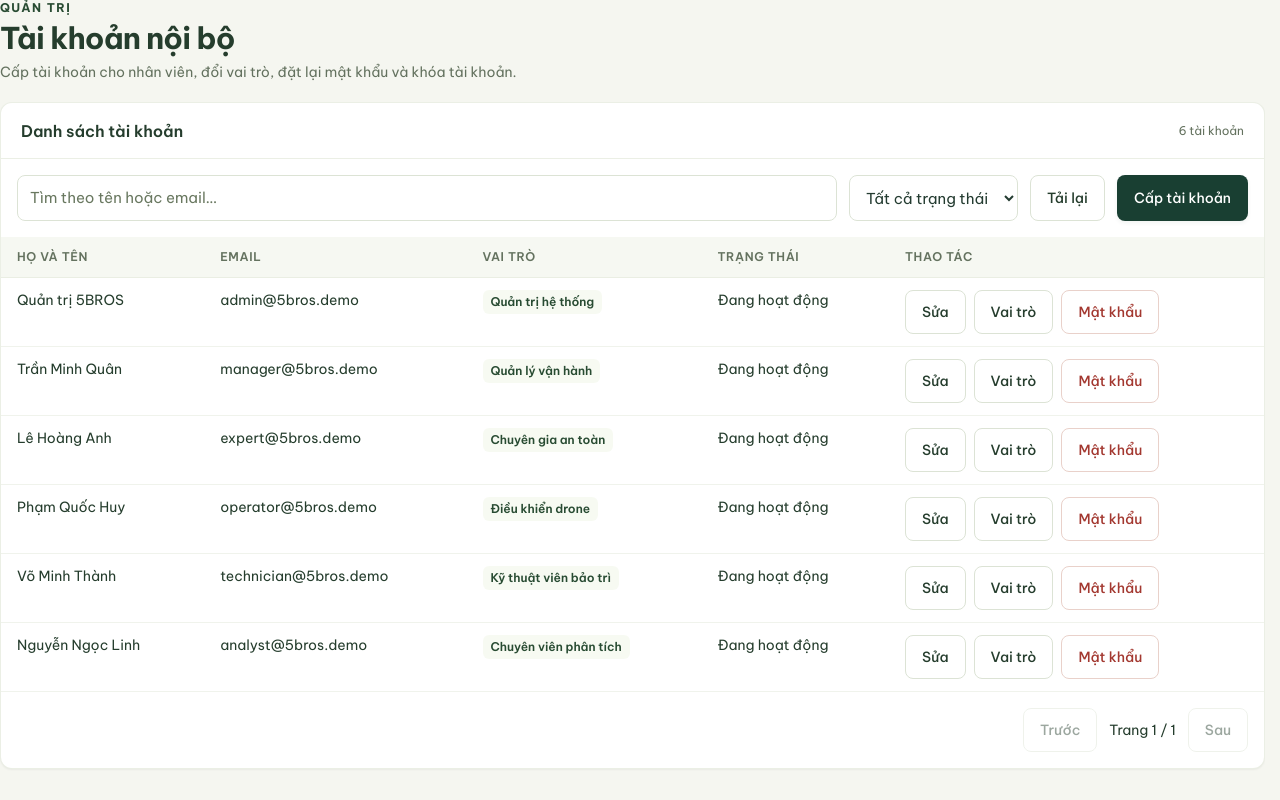
Test: AccountsPage › từ chối email trùng và giữ hộp thoại để sửa lại
The image size is (1280, 800).
Check: the text "admin@5bros.demo" is shown, box [204,278,466,346]
Click the button "Cấp tài khoản" at (1182, 198), box [1117,175,1248,221]
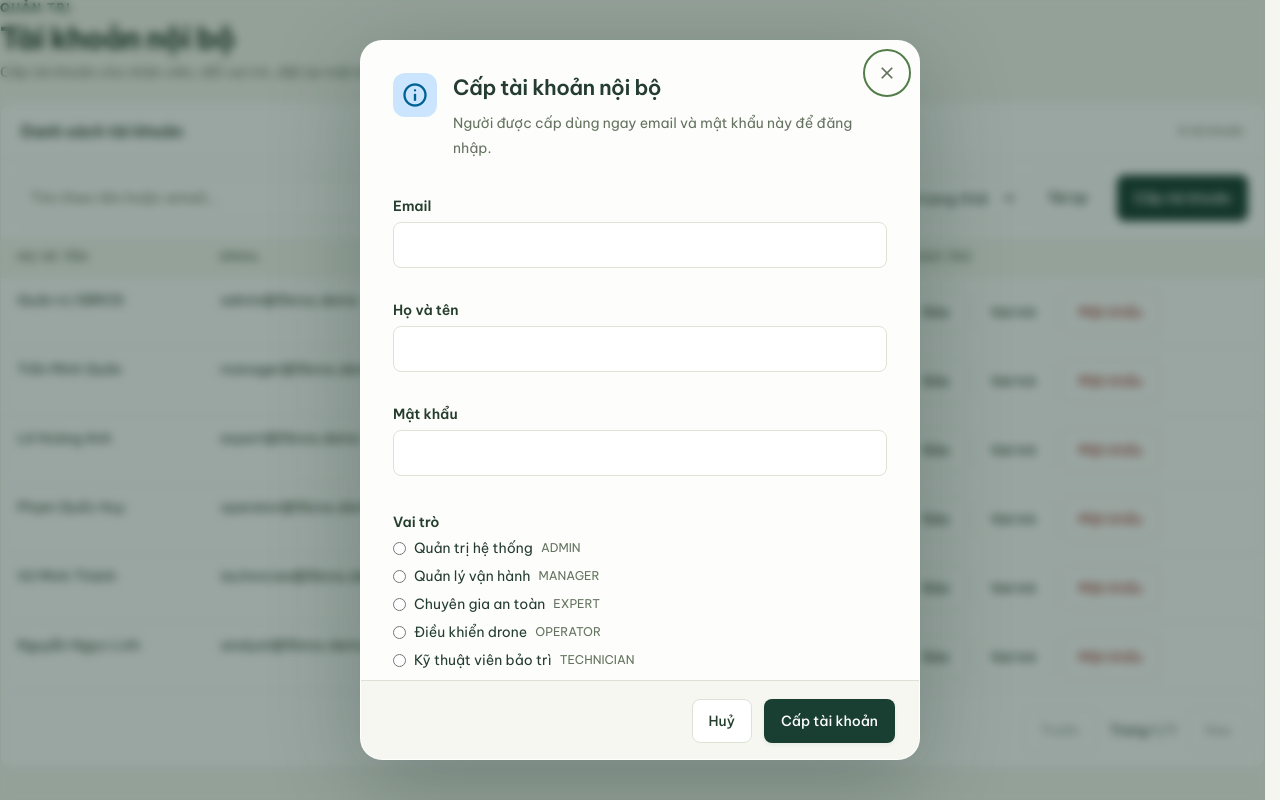
Type "admin@5bros.demo" into the field labelled "Email" at (640, 245), box [393,222,887,268]
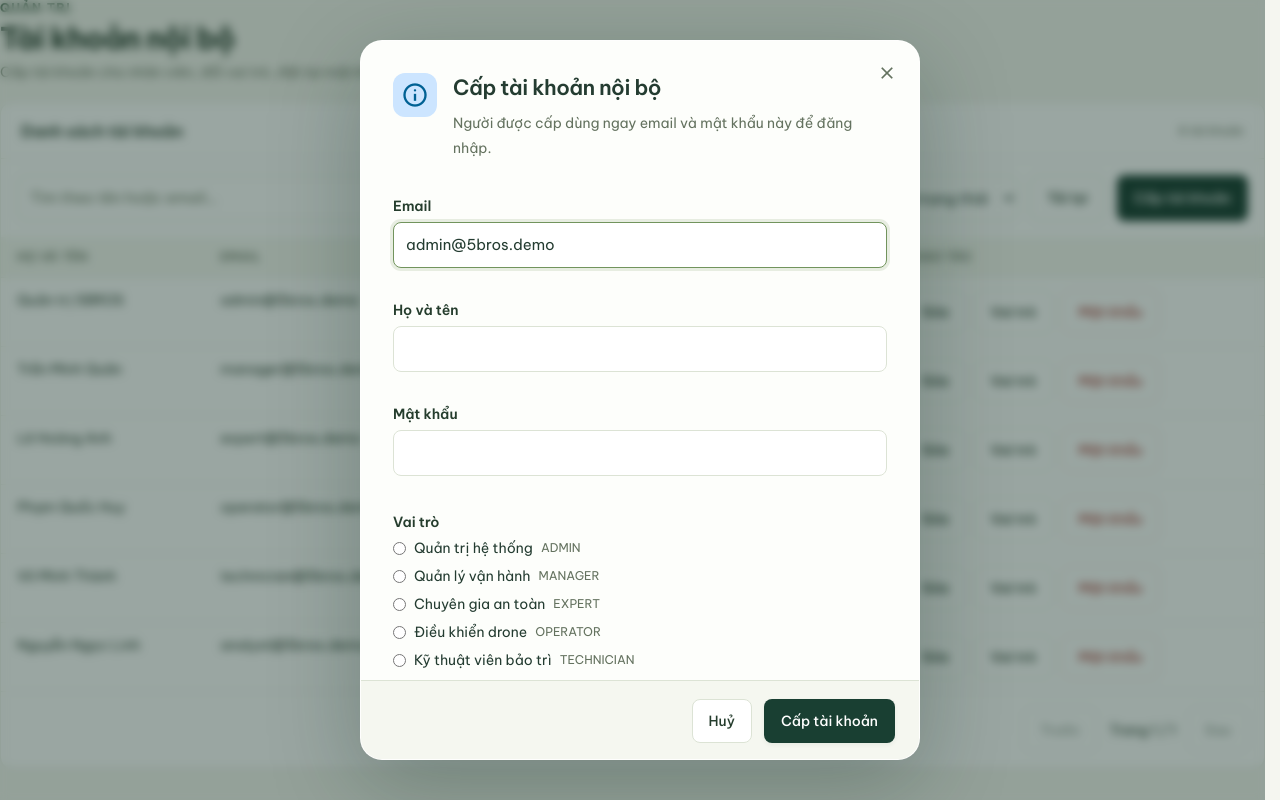
Type "Trùng Email" into the field labelled "Họ và tên" at (640, 349), box [393,326,887,372]
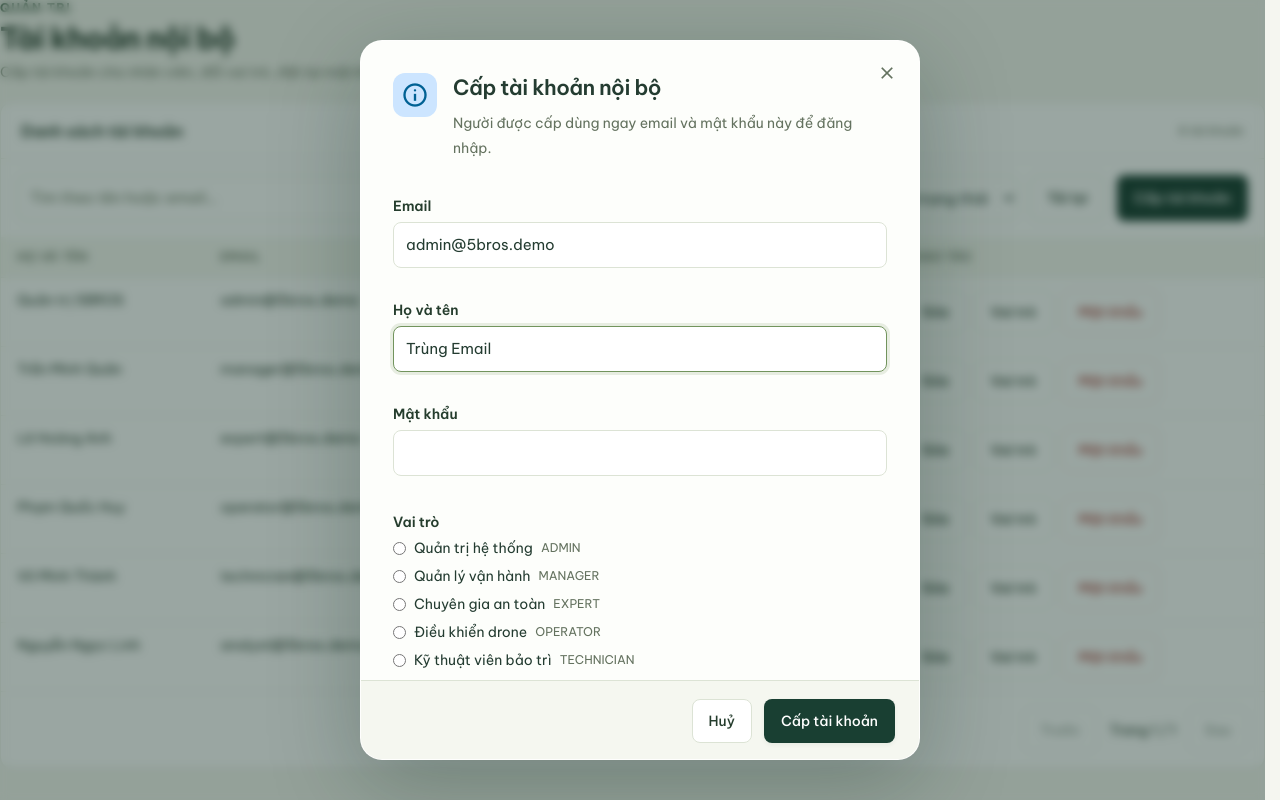
Type "MatKhau@123" into the password field labelled "Mật khẩu" at (640, 453), box [393,430,887,476]
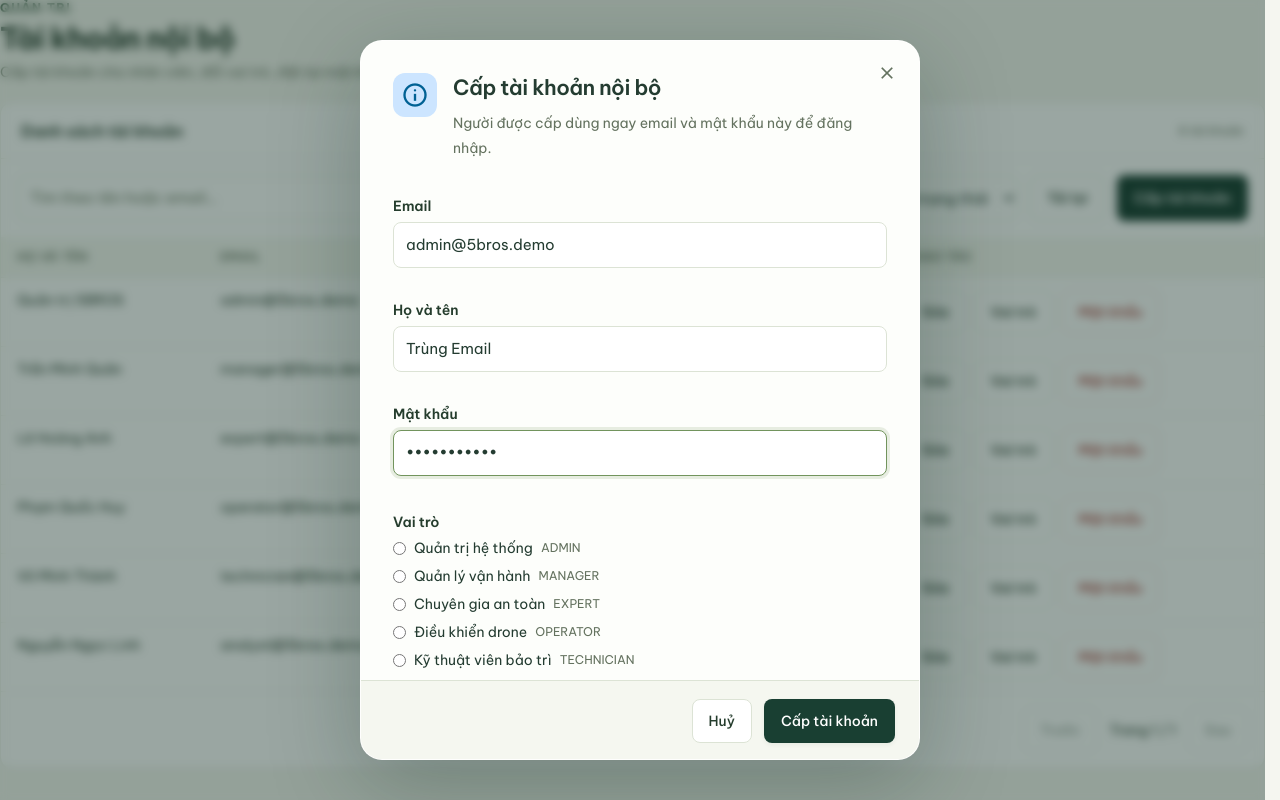
Click the radio button labelled "Quản lý vận hành" at (400, 576), box [393,570,406,583]
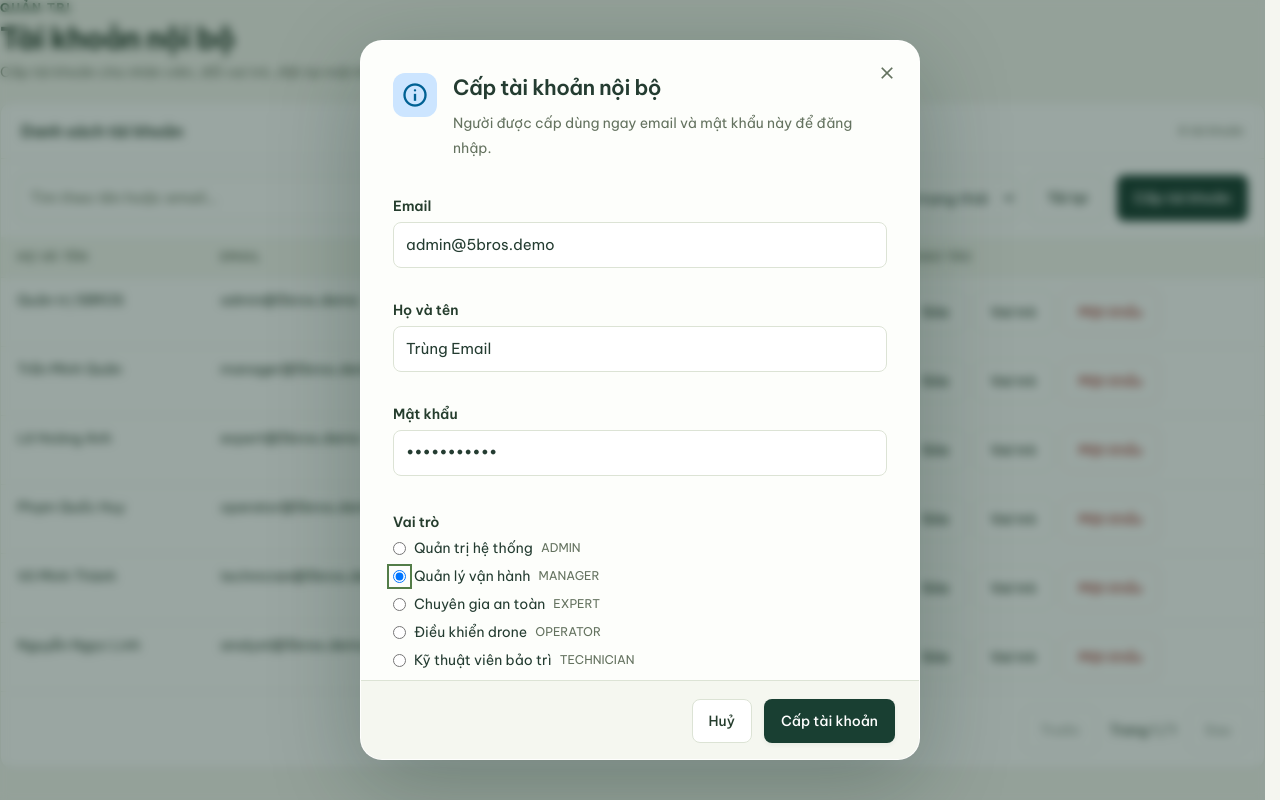
Click the button "Cấp tài khoản" at (829, 721), box [764,699,895,743]
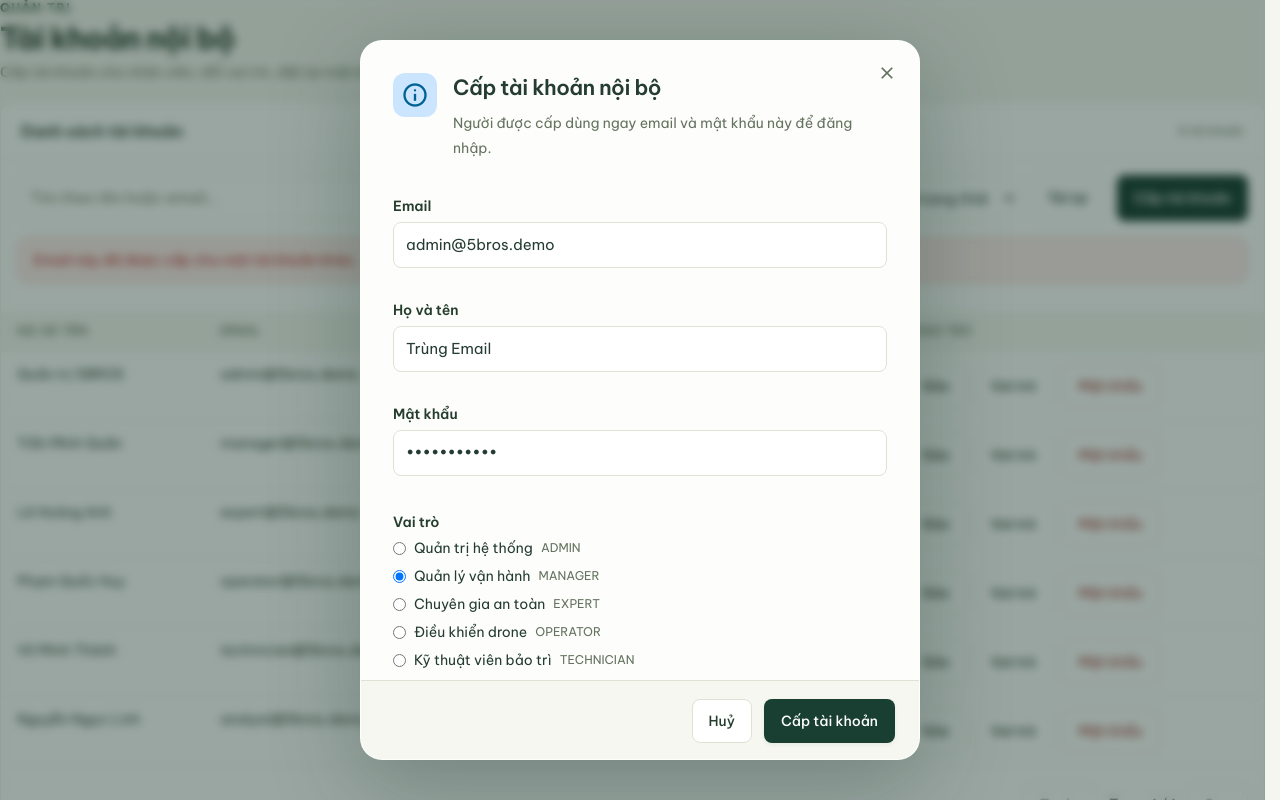
Check: the dialog is shown, box [360,40,920,760]
Check: the text "Email này đã được cấp cho một tài khoản khác." is shown, box [17,237,1248,283]
